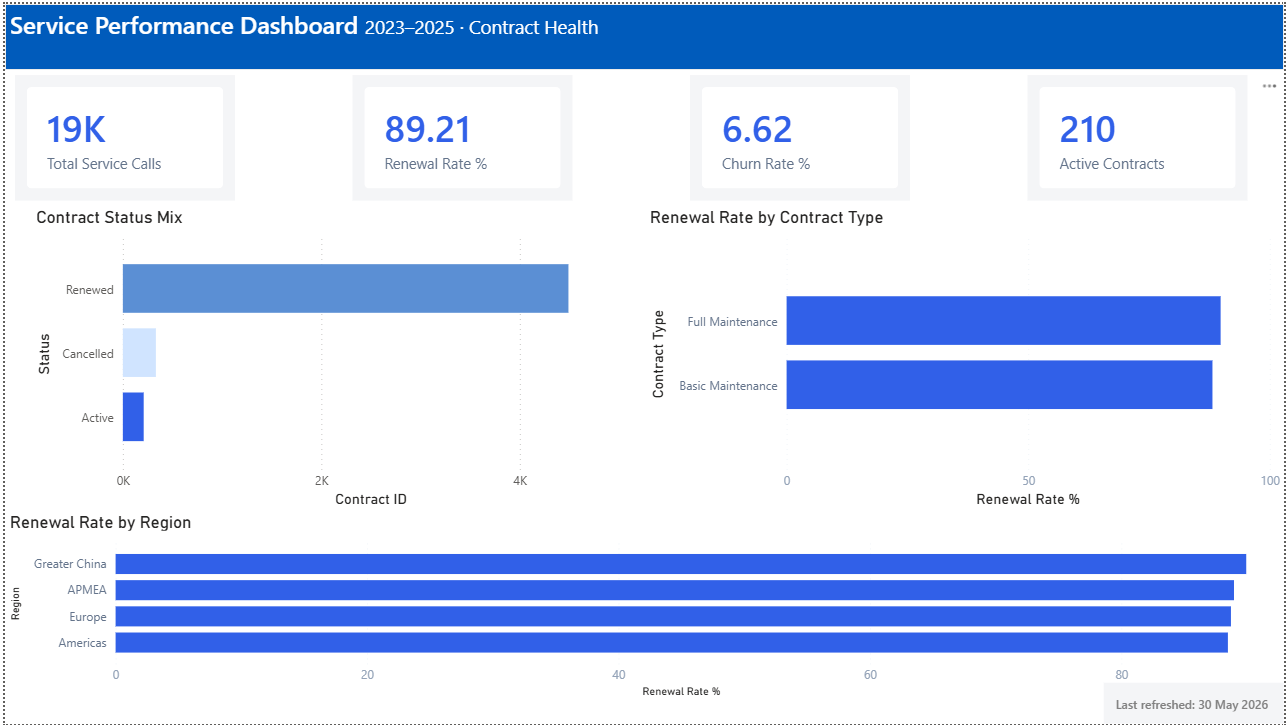

The page's visual inventory and layout, read from the dashboard file:
{"tool":"powerbi","page":{"name":"Contract Health","canvas":[1280,720],"ordinal":3},"visuals":[{"type":"textbox","box":[0,0,1280,65.7],"z":0},{"type":"cardVisual","fields":{"Data":["_Measures.Total Service Calls"]},"box":[10,65.7,220,135.7],"z":1000},{"type":"cardVisual","fields":{"Data":["_Measures.Renewal Rate %"]},"box":[347.6,65.7,220,135.7],"z":2000},{"type":"cardVisual","fields":{"Data":["_Measures.Churn Rate %"]},"box":[685.2,65.7,220,135.7],"z":3000},{"type":"cardVisual","fields":{"Data":["_Measures.Active Contracts"]},"box":[1022.9,65.7,220,135.7],"z":4000},{"type":"barChart","title":"Contract Status Mix","fields":{"Category":["contracts.status"],"Y":["CountNonNull(contracts.contract_id)"]},"box":[26,202,600,306],"z":5000},{"type":"clusteredBarChart","title":"Renewal Rate by Contract Type","fields":{"Category":["contracts.contract_type"],"Y":["_Measures.Renewal Rate %"]},"box":[640,202,640,306],"z":6000},{"type":"clusteredBarChart","title":"Renewal Rate by Region","fields":{"Category":["contracts.region"],"Y":["_Measures.Renewal Rate %"]},"box":[0,507.1,1254.3,191.4],"z":7000},{"type":"cardVisual","fields":{"Data":["New Measure.Last Refreshed"]},"box":[1098.3,678.3,181.7,41.7],"z":7001}]}

Visuals, with their boxes in screenshot pixels (x1, y1, x2, y2), scaled from the page's 1280x720 canvas onto the 1287x725 screenshot:
textbox: Rect(0, 0, 1286, 66)
cardVisual - _Measures.Total Service Calls: Rect(10, 66, 231, 203)
cardVisual - _Measures.Renewal Rate %: Rect(350, 66, 571, 203)
cardVisual - _Measures.Churn Rate %: Rect(689, 66, 910, 203)
cardVisual - _Measures.Active Contracts: Rect(1028, 66, 1250, 203)
"Contract Status Mix" barChart: Rect(26, 203, 629, 512)
"Renewal Rate by Contract Type" clusteredBarChart: Rect(644, 203, 1286, 512)
"Renewal Rate by Region" clusteredBarChart: Rect(0, 511, 1261, 703)
cardVisual - New Measure.Last Refreshed: Rect(1104, 683, 1286, 724)
